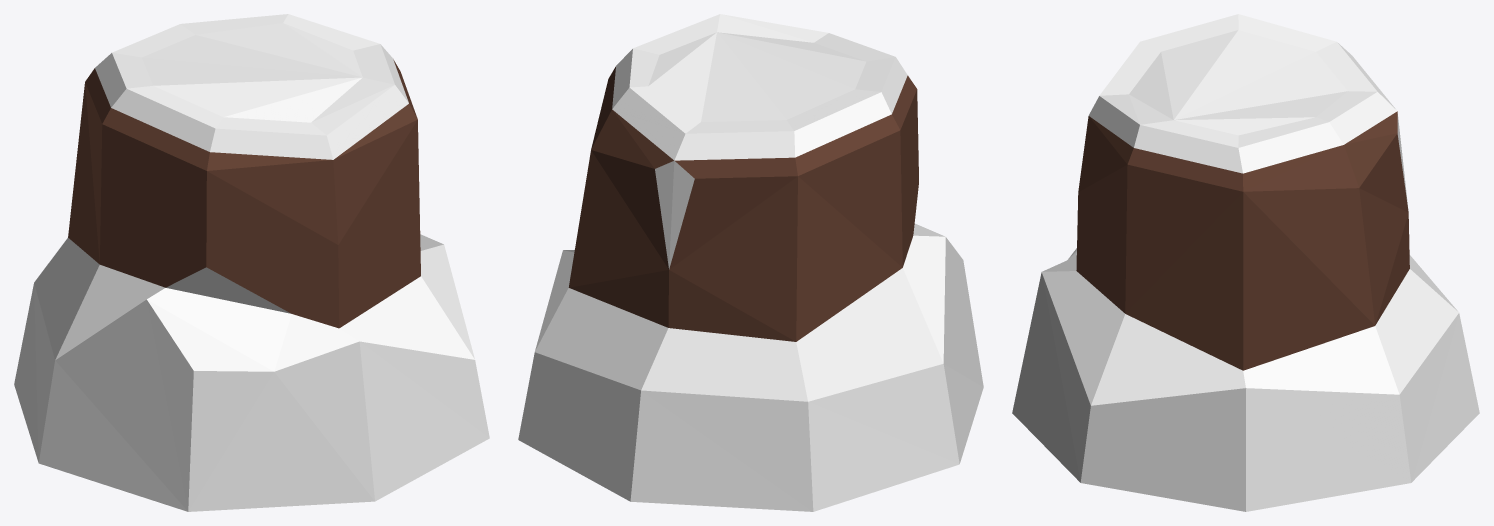
File: TreeTrunk_1_Snow.fbx
The picture shows the model from 3 angles, left to right: view 1: azimuth 30°, elevation 25°; view 2: azimuth 150°, elevation 25°; view 3: azimuth 270°, elevation 25°; orthographic projection. The views are drawn at different scales.
Visible parts, largest first — view 1: TreeTrunk_1_Snow; view 2: TreeTrunk_1_Snow; view 3: TreeTrunk_1_Snow.
Part boxes in pixels (x1=…): TreeTrunk_1_Snow: x1=14, y1=14, x2=489, y2=511; TreeTrunk_1_Snow: x1=518, y1=14, x2=983, y2=511; TreeTrunk_1_Snow: x1=1012, y1=14, x2=1479, y2=511.
Bounding box in the file's own units: 1.02 × 0.8142 × 1.02.
